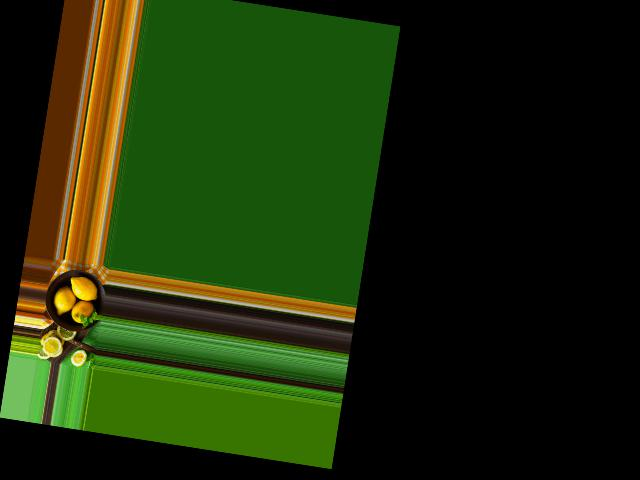lemon: (65, 271, 103, 305)
